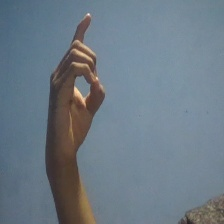D: (42, 12, 109, 155)
